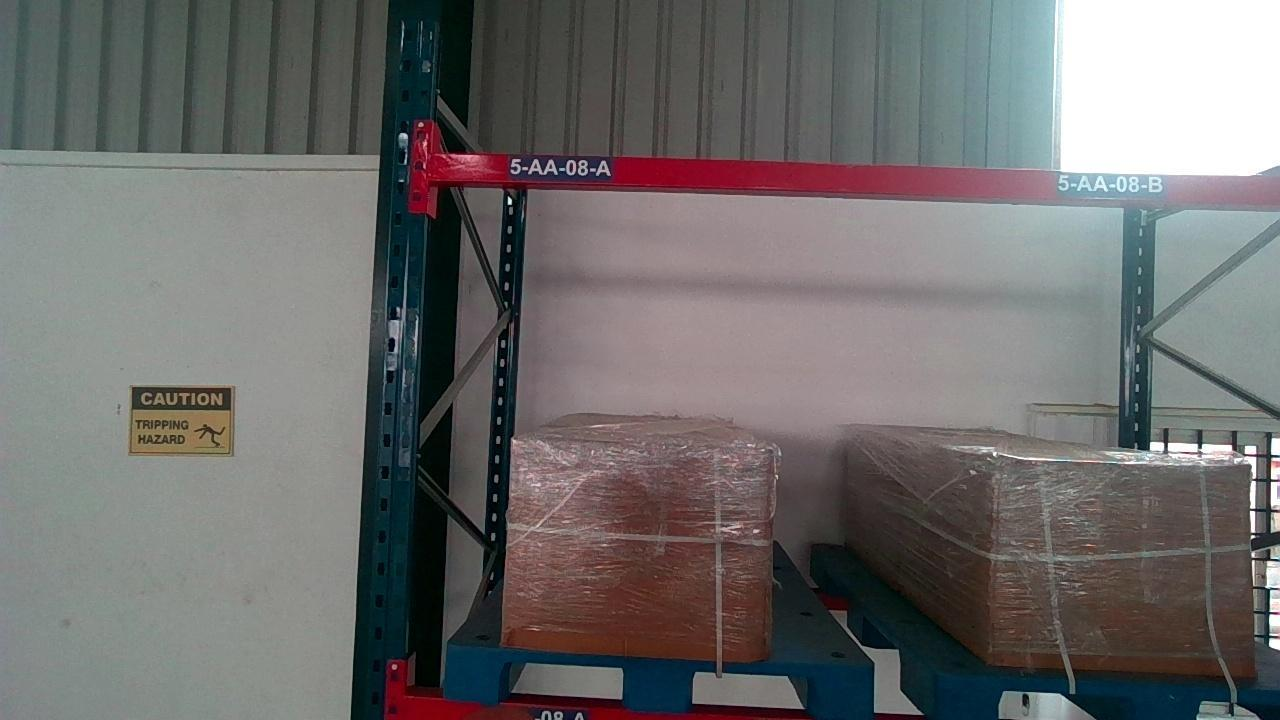h_rack: (430, 153, 1277, 202)
small_pallet: (440, 653, 880, 711), (950, 680, 1280, 720)
